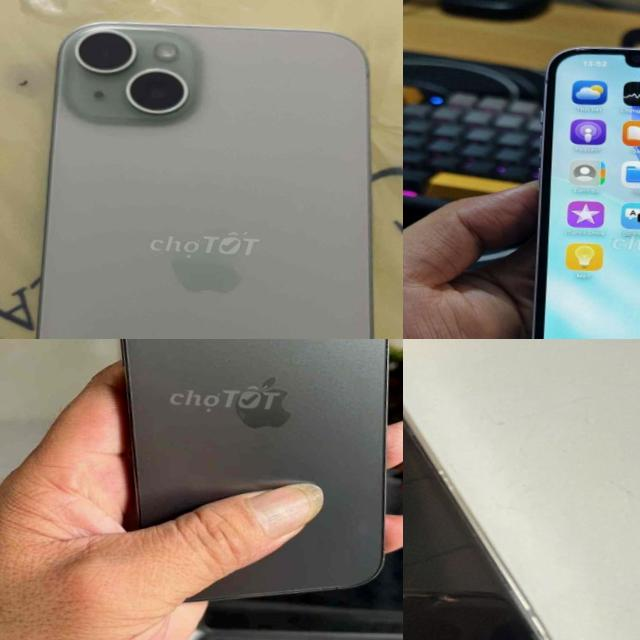scratch: (437, 468, 460, 498)
